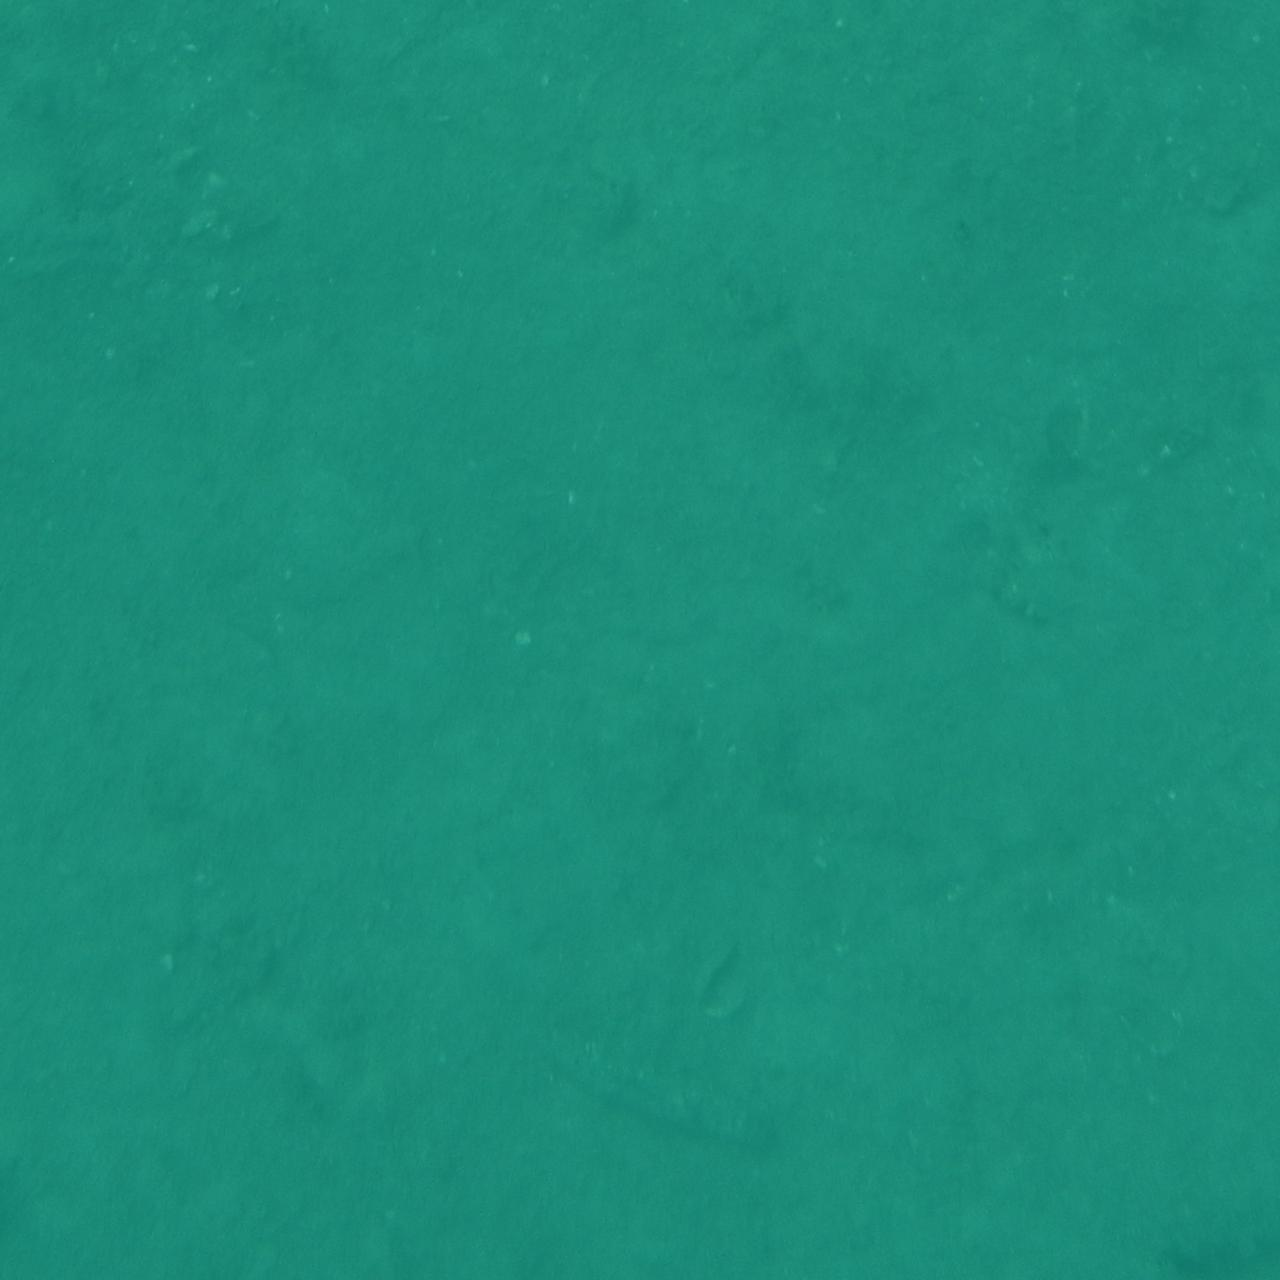Holothuria tubulosa: (492, 981, 788, 1175)
